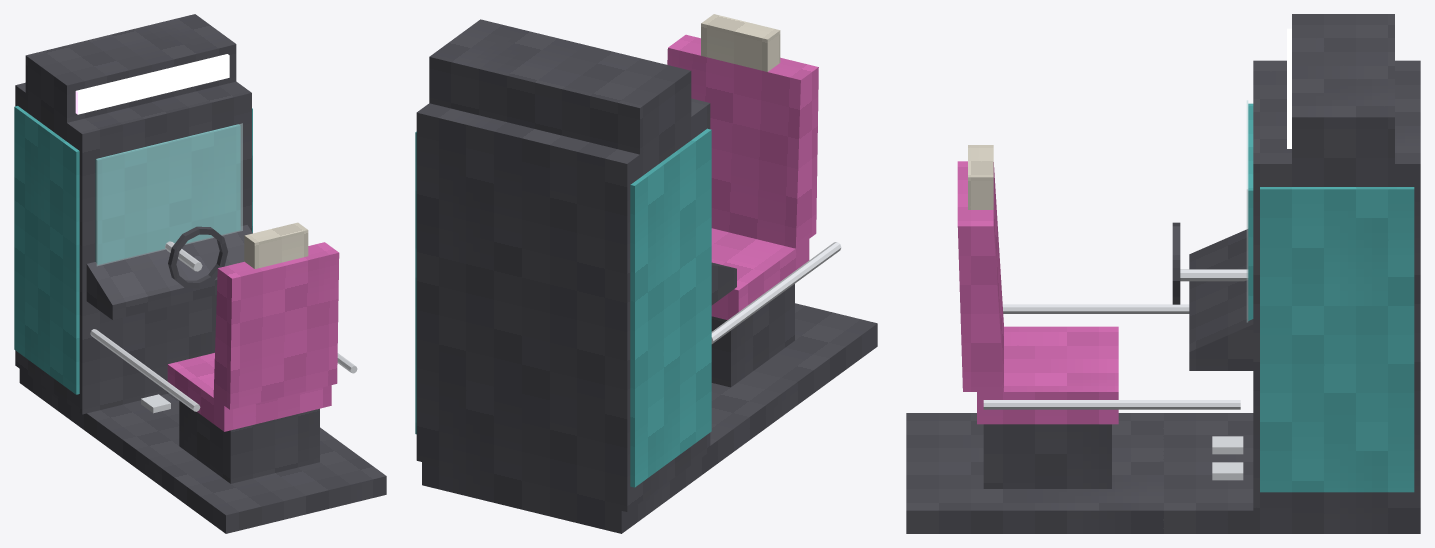
The model's file is three-d-retro-arcade-and-mall-1989-retro-arcade-and-mall-1989-sit-down-racer-9b319559.glb.
3 renders of one model, left to right at view 1: azimuth 30°, elevation 25°; view 2: azimuth 150°, elevation 25°; view 3: azimuth 270°, elevation 25°, orthographic. The views are drawn at different scales.
Visible parts, largest first — view 1: sit-down-racer; view 2: sit-down-racer; view 3: sit-down-racer.
Boxes of the visible parts, left/top/right/bottom form: sit-down-racer: left=14, top=14, right=386, bottom=533; sit-down-racer: left=415, top=14, right=877, bottom=533; sit-down-racer: left=906, top=14, right=1420, bottom=533.
Bounding box in the file's own units: 0.9901 × 1.8 × 2.
Materials: 7 (4 with a texture image).
